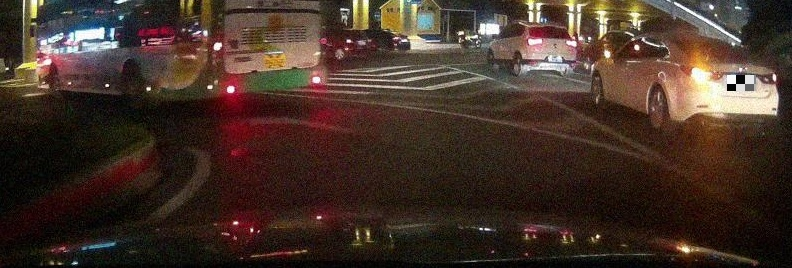L_light: (680, 65, 722, 81), (527, 37, 543, 46)
R_light: (761, 72, 777, 84), (565, 40, 576, 47)
T_light: (708, 42, 718, 46), (544, 26, 555, 29)
night-left: (674, 32, 779, 138)
night-no: (524, 23, 576, 78)
plate_1: (727, 75, 756, 91)
